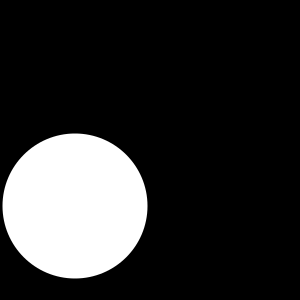rectangle: (2, 133, 148, 278)
